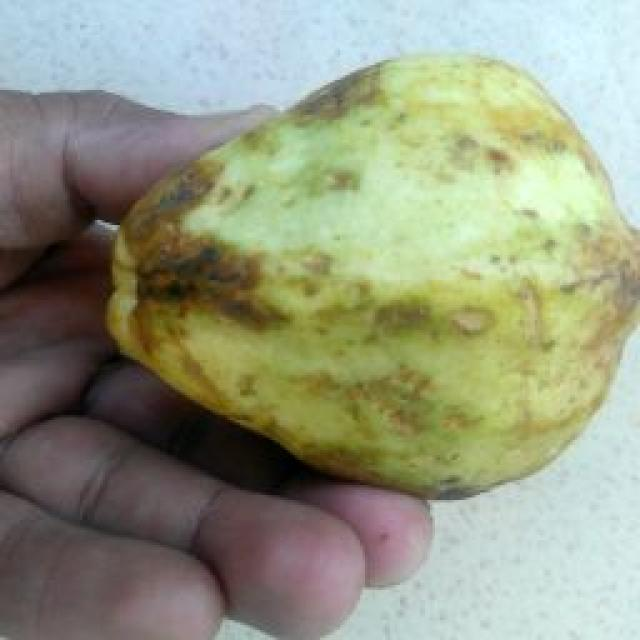Bad_Guava: (109, 55, 635, 497)
